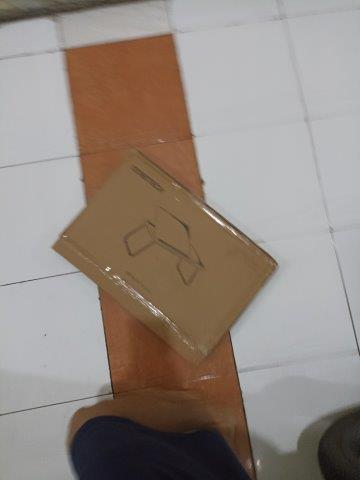kardus: (51, 152, 275, 359)
